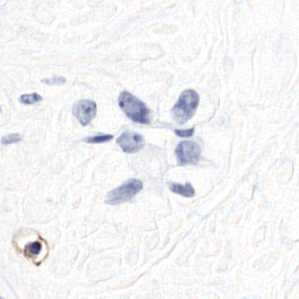Lymphocyte: (23, 234, 52, 266)
